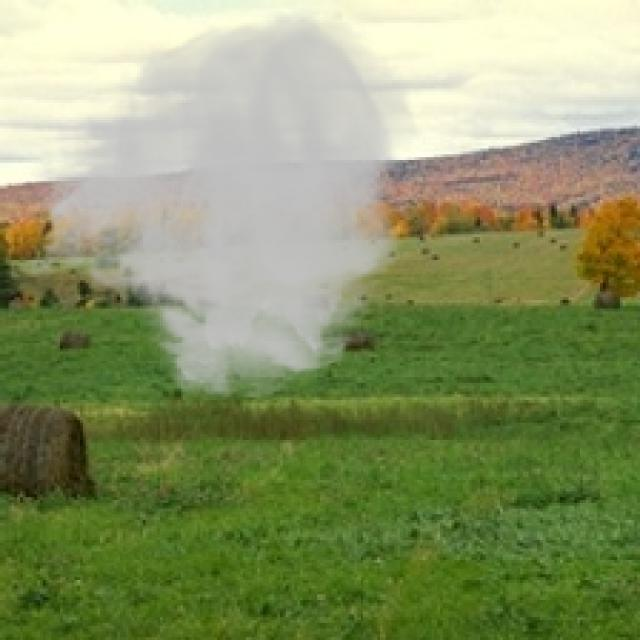Smoke: (20, 6, 420, 403)
